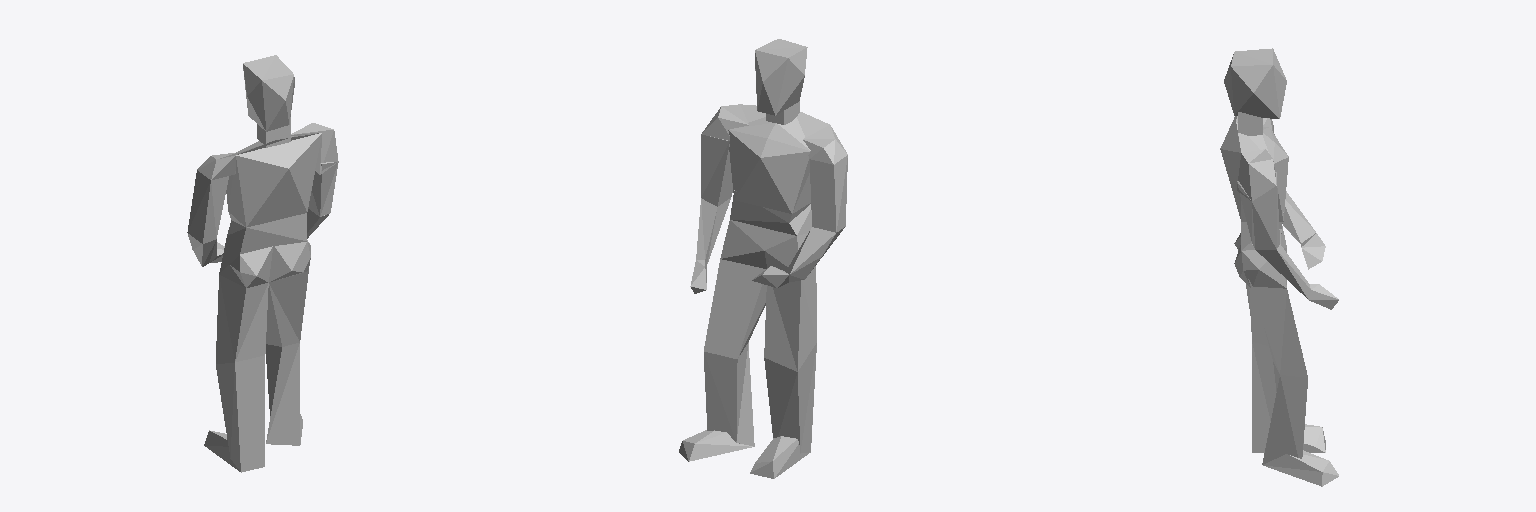
File: farmermodel.obj
3 views of the same model, side by side, from view 1: azimuth 30°, elevation 25°; view 2: azimuth 150°, elevation 25°; view 3: azimuth 270°, elevation 25° (orthographic).
Parts seen in each view (by area): view 1: group[number redacted]; view 2: group[number redacted]; view 3: group[number redacted].
Part boxes in pixels (left/top/right/bottom): group[number redacted]: left=187, top=55, right=338, bottom=472; group[number redacted]: left=679, top=39, right=847, bottom=478; group[number redacted]: left=1220, top=48, right=1338, bottom=486.
Size of the model in its own units: 0.8804 by 2.45 by 0.6638.